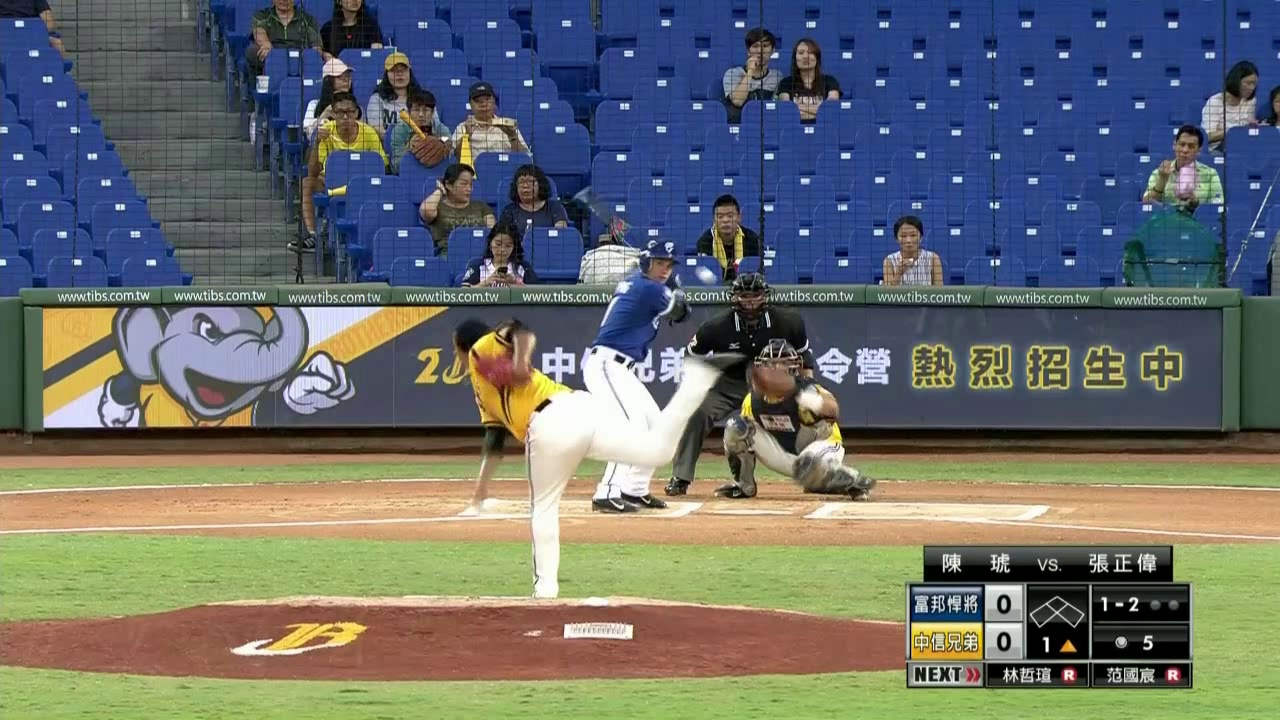ball: (703, 271, 713, 281)
base: (1030, 591, 1088, 631)
bat: (588, 201, 640, 258)
out: (1146, 592, 1183, 616)
score1: (992, 588, 1015, 619)
score2: (991, 628, 1014, 654)
session: (1030, 631, 1083, 657)
strikeball: (1094, 588, 1143, 614)
total: (1103, 631, 1160, 656)
